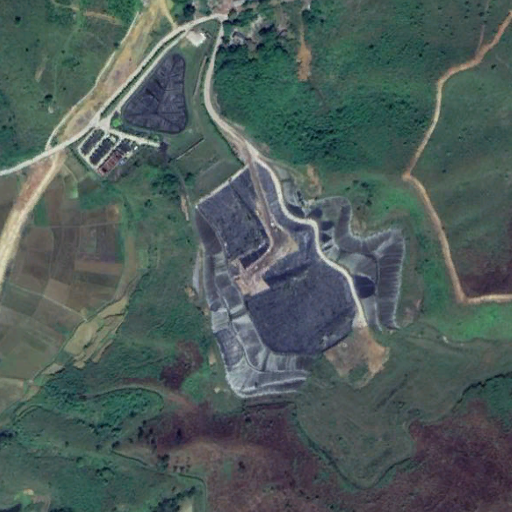lf: (193, 155, 410, 397)
